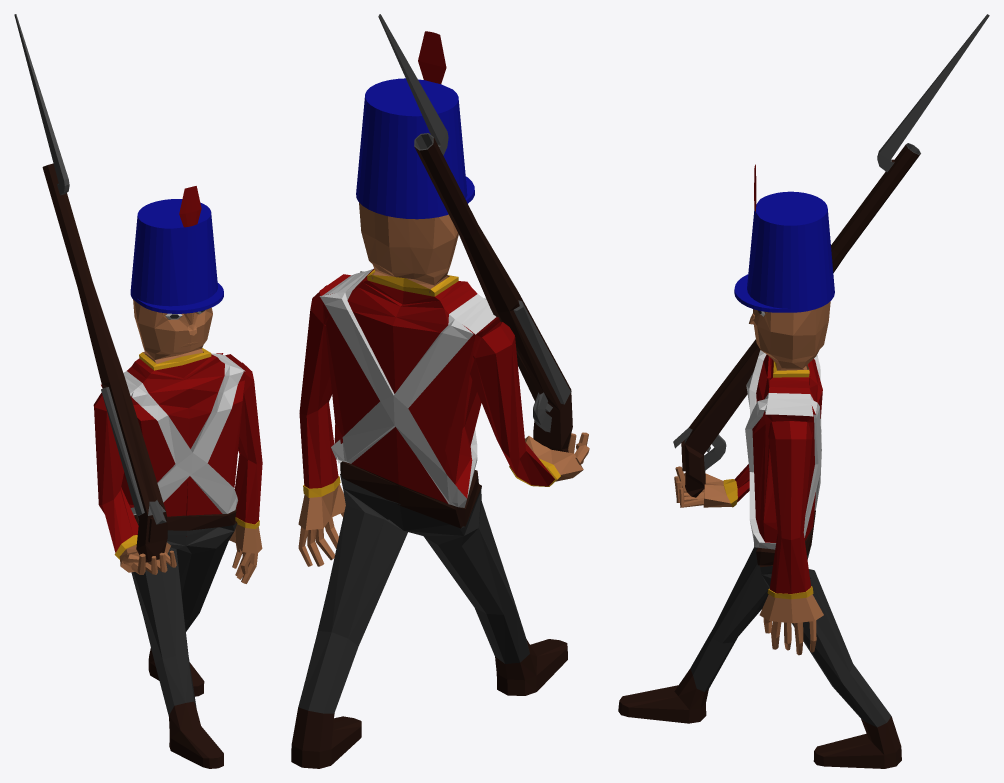
The model's file is Infantry_000026.obj.
The picture shows the model from 3 angles, left to right: view 1: azimuth 30°, elevation 25°; view 2: azimuth 150°, elevation 25°; view 3: azimuth 270°, elevation 25°; orthographic projection. The views are drawn at different scales.
Visible parts, largest first — view 1: {Man}_Circle, {Mesket}_Cube.001; view 2: {Man}_Circle, {Mesket}_Cube.001; view 3: {Man}_Circle, {Mesket}_Cube.001.
Boxes of the visible parts, x1=… form: {Man}_Circle: x1=93, y1=186, x2=262, y2=768; {Mesket}_Cube.001: x1=14, y1=14, x2=167, y2=562; {Man}_Circle: x1=291, y1=31, x2=589, y2=768; {Mesket}_Cube.001: x1=378, y1=14, x2=572, y2=452; {Man}_Circle: x1=618, y1=164, x2=901, y2=768; {Mesket}_Cube.001: x1=673, y1=14, x2=989, y2=497.
Bounding box in the file's own units: 5.63 × 19.2 × 9.31.
